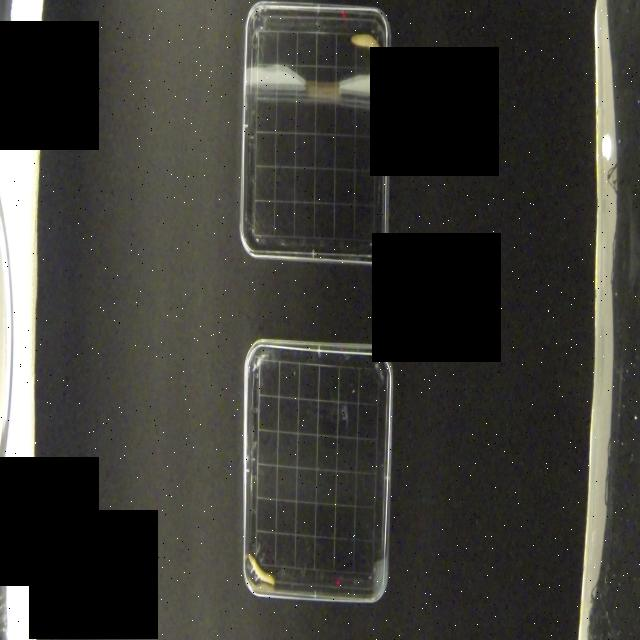larva: (350, 31, 384, 63), (250, 550, 276, 585)
